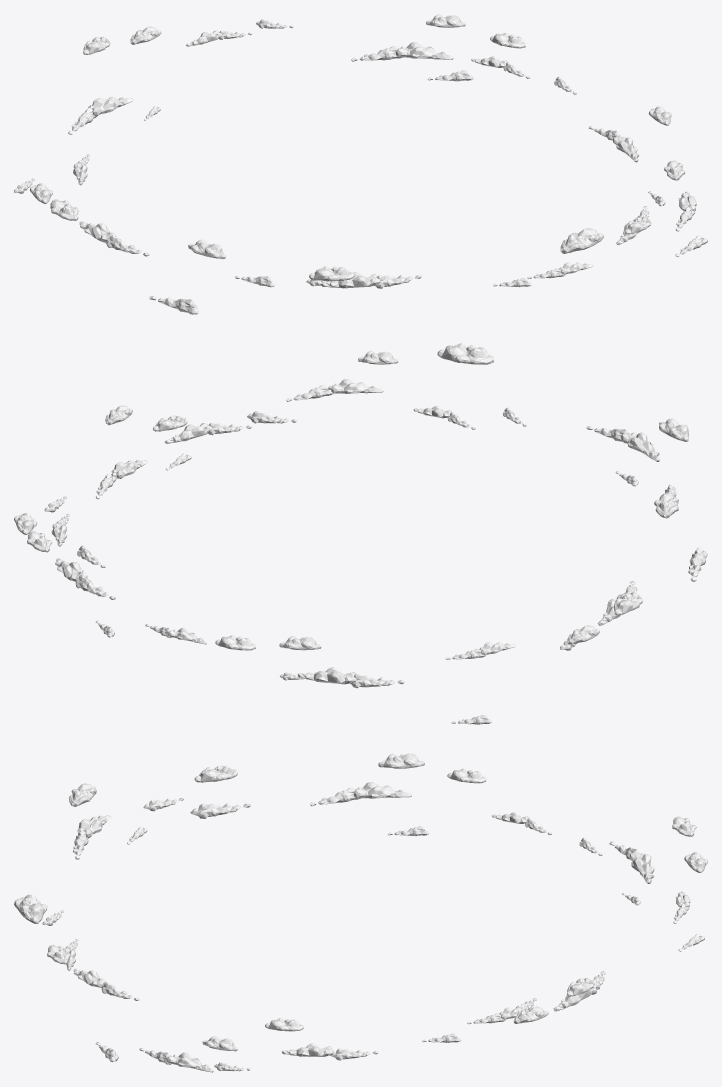
3 views of the same model, one above another, from view 1: azimuth 30°, elevation 25°; view 2: azimuth 150°, elevation 25°; view 3: azimuth 270°, elevation 25° (orthographic). The views are drawn at different scales.
Parts seen in each view (by area): view 1: Clouds.001; view 2: Clouds.001; view 3: Clouds.001.
Boxes of the visible parts, bbox=[...] form: Clouds.001: bbox=[14, 14, 707, 314]; Clouds.001: bbox=[14, 343, 707, 724]; Clouds.001: bbox=[14, 753, 707, 1072].
Bounding box in the file's own units: 832 × 127 × 876.
Materials: 1 (1 with a texture image).
